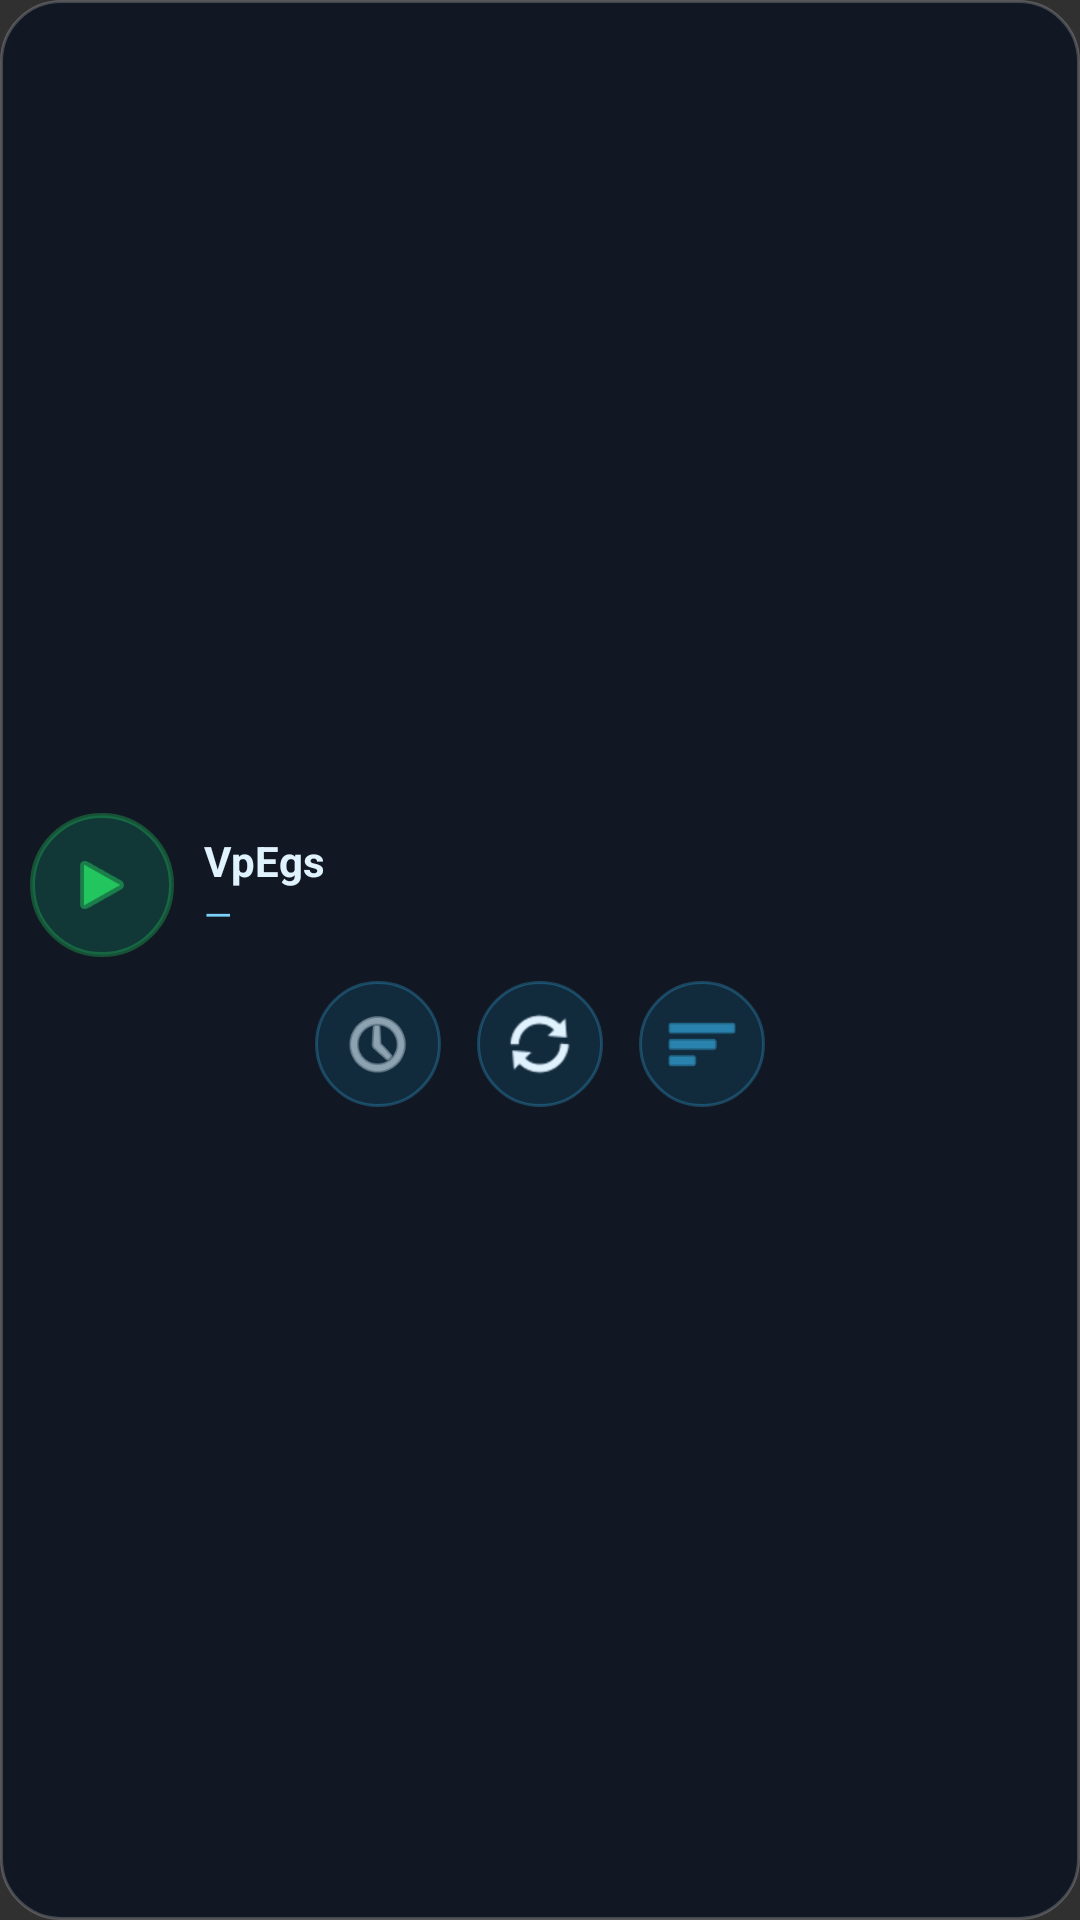

Where icons sit on this 1080w x 1920h app screen, as {"x1": x1, "y1": y1, "x2": x2, "y2": y2}:
play: {"x1": 80, "y1": 861, "x2": 124, "y2": 909}
recent history: {"x1": 315, "y1": 981, "x2": 441, "y2": 1107}
sort by size: {"x1": 639, "y1": 981, "x2": 765, "y2": 1107}
